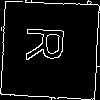R: (25, 24, 74, 63)
